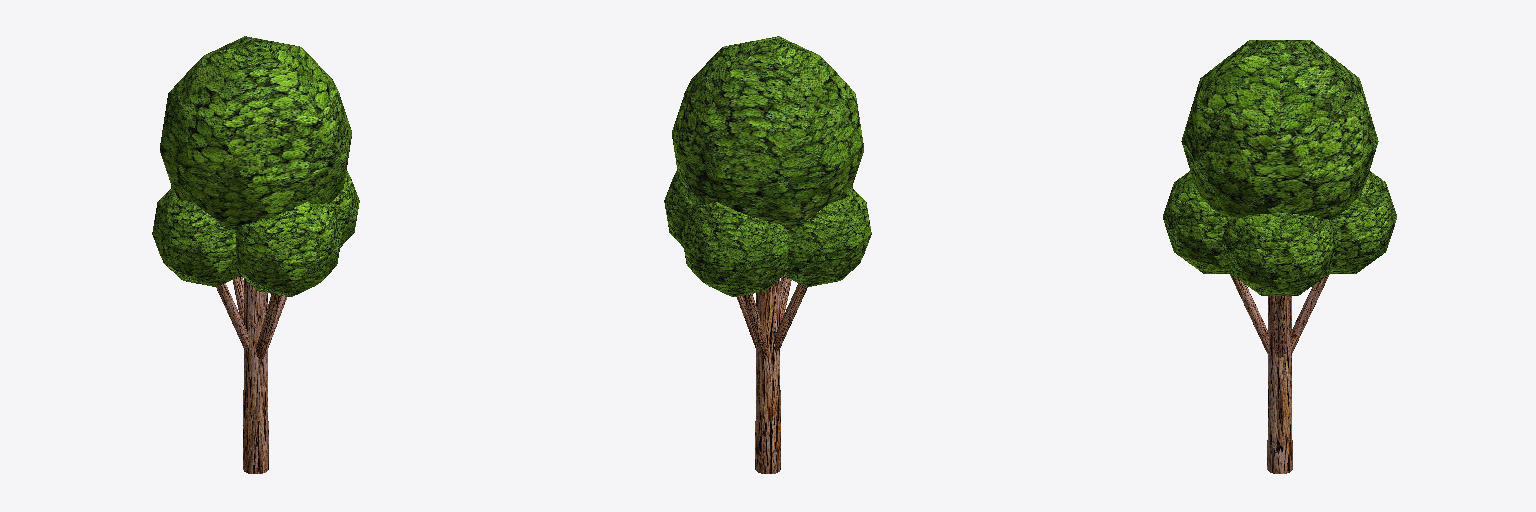
3 renders of one model, left to right at view 1: azimuth 30°, elevation 25°; view 2: azimuth 150°, elevation 25°; view 3: azimuth 270°, elevation 25°, orthographic.
Visible parts, largest first — view 1: Icosphere.001, Cylinder.002; view 2: Icosphere.001, Cylinder.002; view 3: Icosphere.001, Cylinder.002.
Boxes of the visible parts, x1=… form: Icosphere.001: x1=152, y1=36, x2=359, y2=296; Cylinder.002: x1=216, y1=276, x2=286, y2=473; Icosphere.001: x1=664, y1=36, x2=871, y2=296; Cylinder.002: x1=737, y1=276, x2=807, y2=473; Icosphere.001: x1=1163, y1=40, x2=1396, y2=295; Cylinder.002: x1=1230, y1=274, x2=1329, y2=473.
Bounding box in the file's own units: 1.11 × 2.38 × 1.19.
Materials: 10 (2 with a texture image).